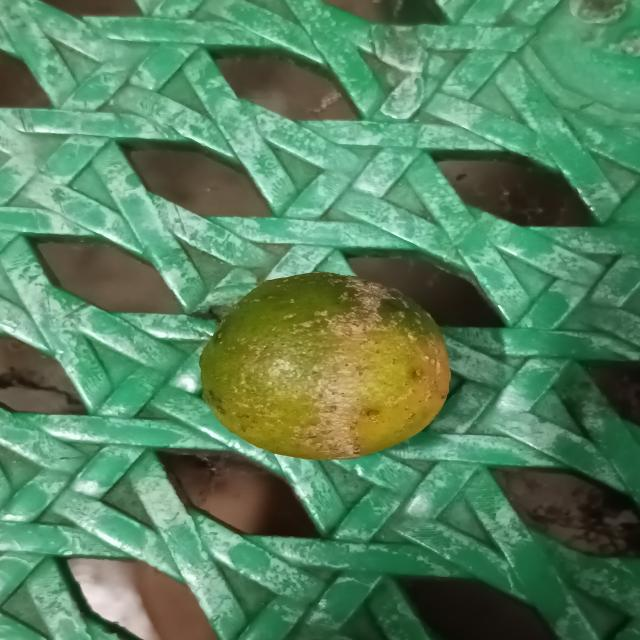thrips: (202, 269, 452, 459)
